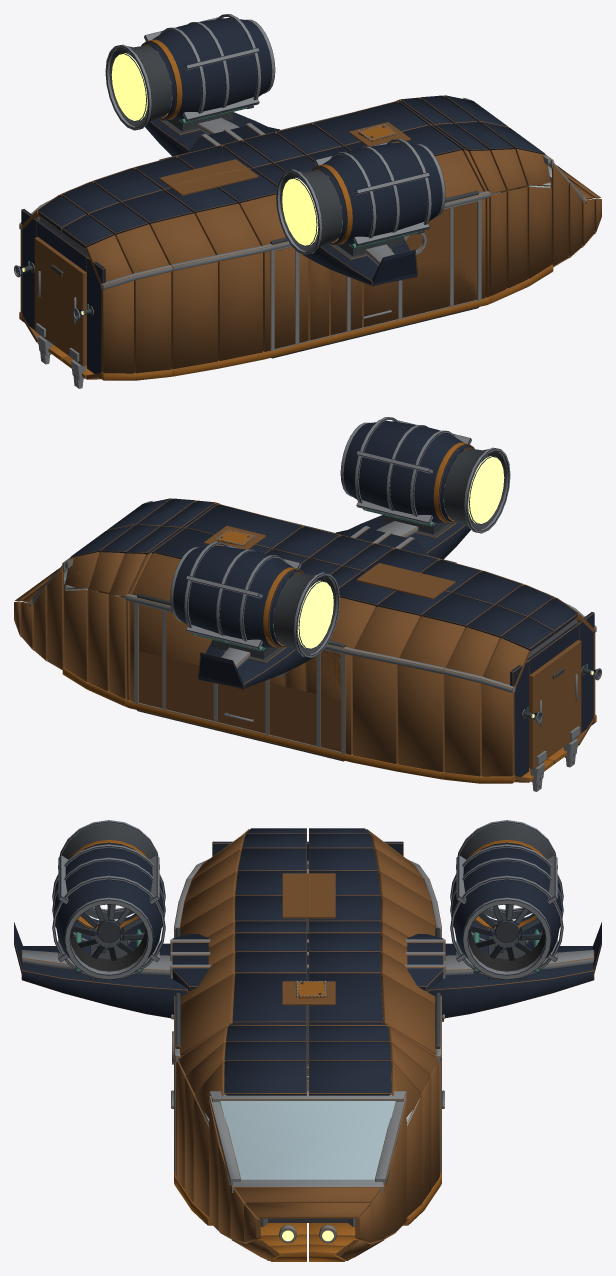
The model's file is ship_rv.fbx.
3 views of the same model, one above another, from view 1: azimuth 30°, elevation 25°; view 2: azimuth 150°, elevation 25°; view 3: azimuth 270°, elevation 25° (orthographic). The views are drawn at different scales.
Parts seen in each view (by area): view 1: Mesh_HullShell_Closed, Mesh_HullShell_Tail, Mesh_HullShell_Cockpit, Mesh_Thruster_MainStarboard, Mesh_Thruster_MainPort, Mesh_DoorPanel_CargoRamp, Mesh_DoorPanel_SideUpperStarboard, Mesh_Wing_Starboard, Mesh_HullShell_Open, Mesh_DoorPanel_SideLowerStarboard, Mesh_Wing_Port, Mesh_WingRoot_Block (+3 smaller); view 2: Mesh_HullShell_Closed, Mesh_HullShell_Tail, Mesh_HullShell_Cockpit, Mesh_Thruster_MainPort, Mesh_Thruster_MainStarboard, Mesh_DoorPanel_SideLowerPort, Mesh_DoorPanel_CargoRamp, Mesh_Wing_Port, Mesh_HullShell_Open, Mesh_Wing_Starboard, Mesh_DoorPanel_SideUpperPort, Mesh_WingRoot_Block (+3 smaller); view 3: Mesh_HullShell_Cockpit, Mesh_HullShell_Closed, Mesh_Thruster_MainPort, Mesh_Thruster_MainStarboard, Mesh_Canopy_Glass, Mesh_Wing_Starboard, Mesh_Wing_Port, Mesh_HullShell_Tail, Mesh_WingRoot_Block, Mesh_Hull_RoofPatch, Mesh_Hull_RoofPlate1, Mesh_HullShell_Open (+1 smaller).
Part boxes in pixels (bbox=[...]): Mesh_HullShell_Closed: bbox=[69, 100, 490, 376]; Mesh_HullShell_Tail: bbox=[19, 181, 172, 380]; Mesh_HullShell_Cockpit: bbox=[398, 95, 601, 303]; Mesh_Thruster_MainStarboard: bbox=[276, 138, 445, 256]; Mesh_Thruster_MainPort: bbox=[105, 14, 275, 131]; Mesh_DoorPanel_CargoRamp: bbox=[34, 237, 86, 366]; Mesh_DoorPanel_SideUpperStarboard: bbox=[280, 202, 476, 295]; Mesh_Wing_Starboard: bbox=[302, 238, 417, 286]; Mesh_HullShell_Open: bbox=[159, 116, 482, 358]; Mesh_DoorPanel_SideLowerStarboard: bbox=[295, 253, 476, 344]; Mesh_Wing_Port: bbox=[145, 112, 266, 156]; Mesh_WingRoot_Block: bbox=[187, 123, 280, 203]; Mesh_HullShell_Closed: bbox=[125, 503, 546, 779]; Mesh_HullShell_Tail: bbox=[443, 584, 596, 783]; Mesh_HullShell_Cockpit: bbox=[14, 498, 217, 706]; Mesh_Thruster_MainPort: bbox=[170, 541, 339, 659]; Mesh_Thruster_MainStarboard: bbox=[340, 417, 510, 534]; Mesh_DoorPanel_SideLowerPort: bbox=[139, 651, 341, 751]; Mesh_DoorPanel_CargoRamp: bbox=[529, 640, 581, 769]; Mesh_Wing_Port: bbox=[198, 641, 313, 689]; Mesh_HullShell_Open: bbox=[133, 519, 456, 761]; Mesh_Wing_Starboard: bbox=[349, 515, 470, 559]; Mesh_DoorPanel_SideUpperPort: bbox=[162, 610, 341, 699]; Mesh_WingRoot_Block: bbox=[335, 526, 428, 606]; Mesh_HullShell_Cockpit: bbox=[175, 1026, 440, 1261]; Mesh_HullShell_Closed: bbox=[174, 848, 441, 1185]; Mesh_Thruster_MainPort: bbox=[450, 820, 563, 979]; Mesh_Thruster_MainStarboard: bbox=[52, 820, 165, 979]; Mesh_Canopy_Glass: bbox=[196, 1098, 419, 1179]; Mesh_Wing_Starboard: bbox=[14, 922, 187, 1018]; Mesh_Wing_Port: bbox=[428, 922, 601, 1018]; Mesh_HullShell_Tail: bbox=[187, 828, 428, 879]; Mesh_WingRoot_Block: bbox=[170, 934, 445, 991]; Mesh_Hull_RoofPatch: bbox=[282, 980, 335, 1005]; Mesh_Hull_RoofPlate1: bbox=[282, 894, 335, 918]; Mesh_HullShell_Open: bbox=[174, 927, 441, 1173].
Bounding box in the file's own units: 1294 × 537 × 1058.
